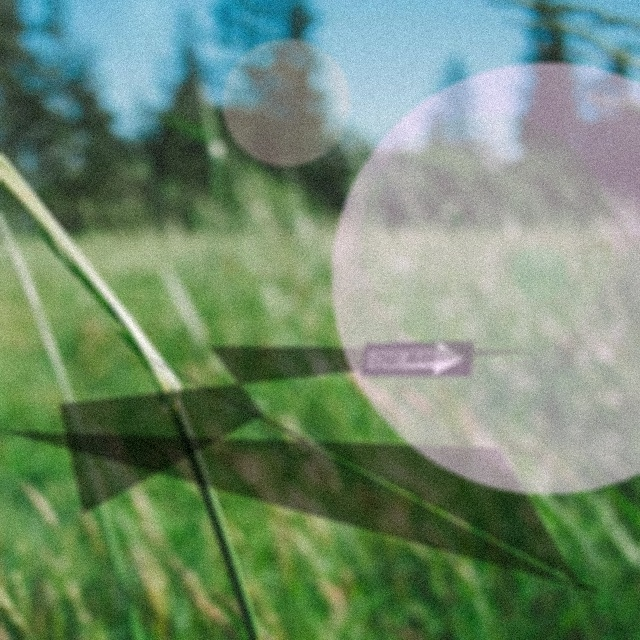ONE_WAY_ right: (359, 340, 474, 377)
